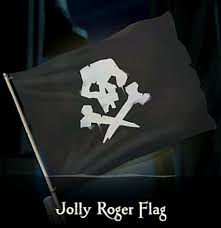Jolly Roger Flag: (10, 9, 219, 195)
